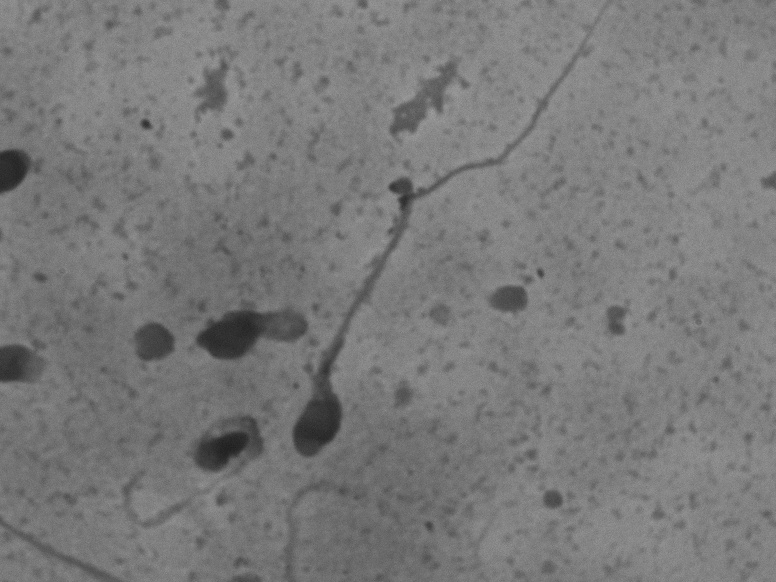Abnormal: (281, 12, 618, 471), (175, 254, 310, 367)
